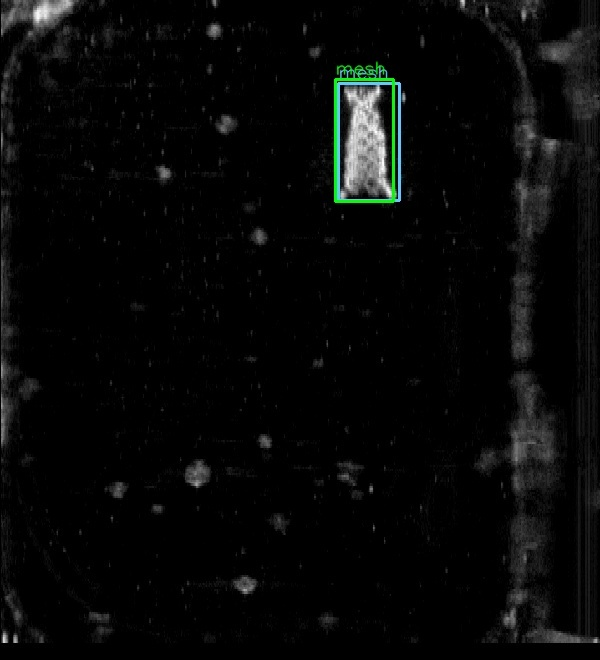mesh: (338, 83, 399, 200)
